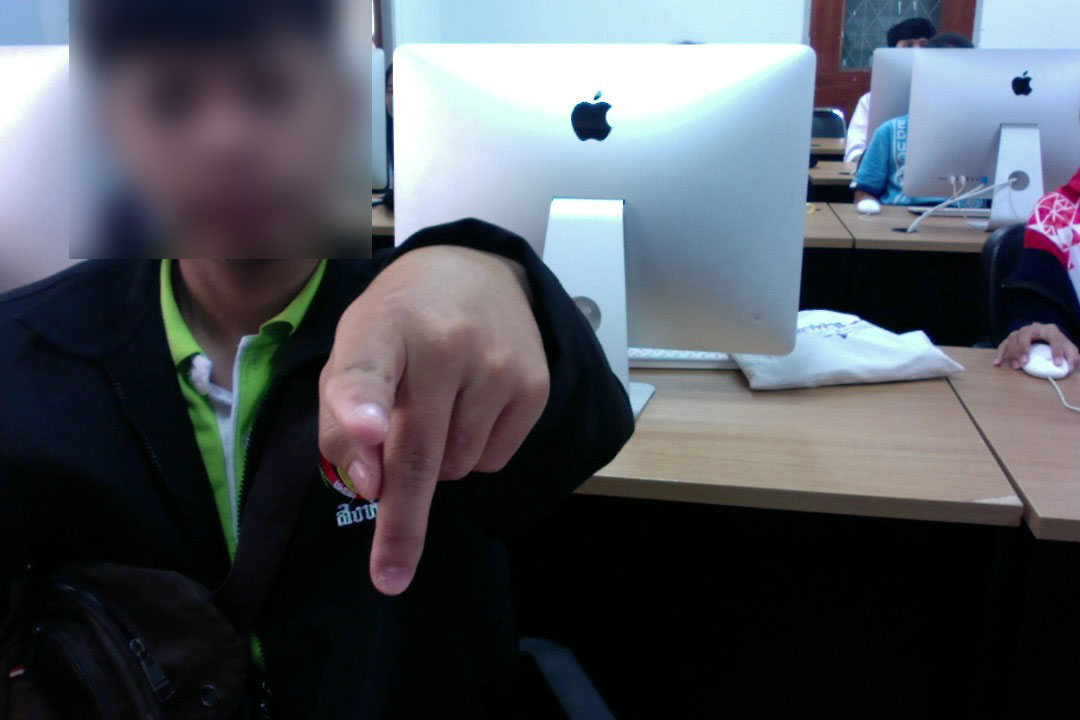por: (315, 239, 549, 601)
